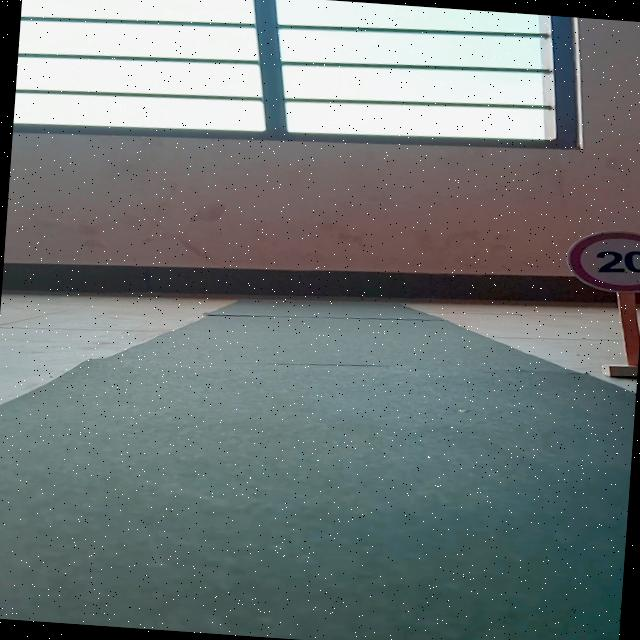Speed20: (561, 222, 640, 295)
